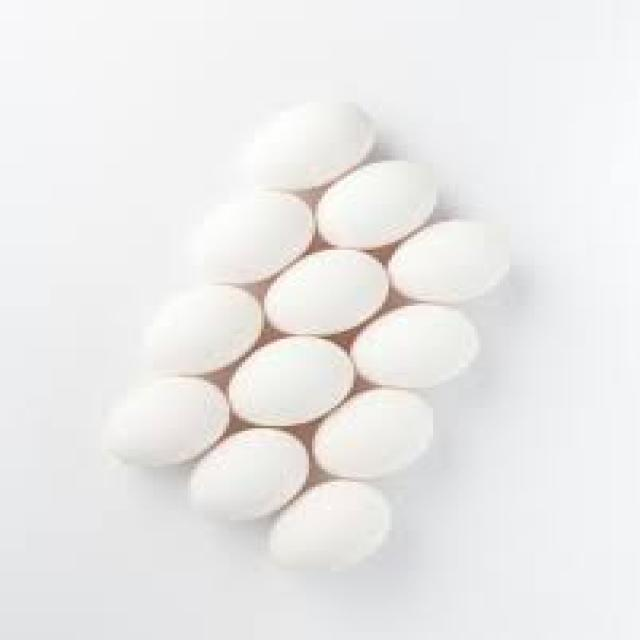White Egg: (106, 79, 457, 567)
